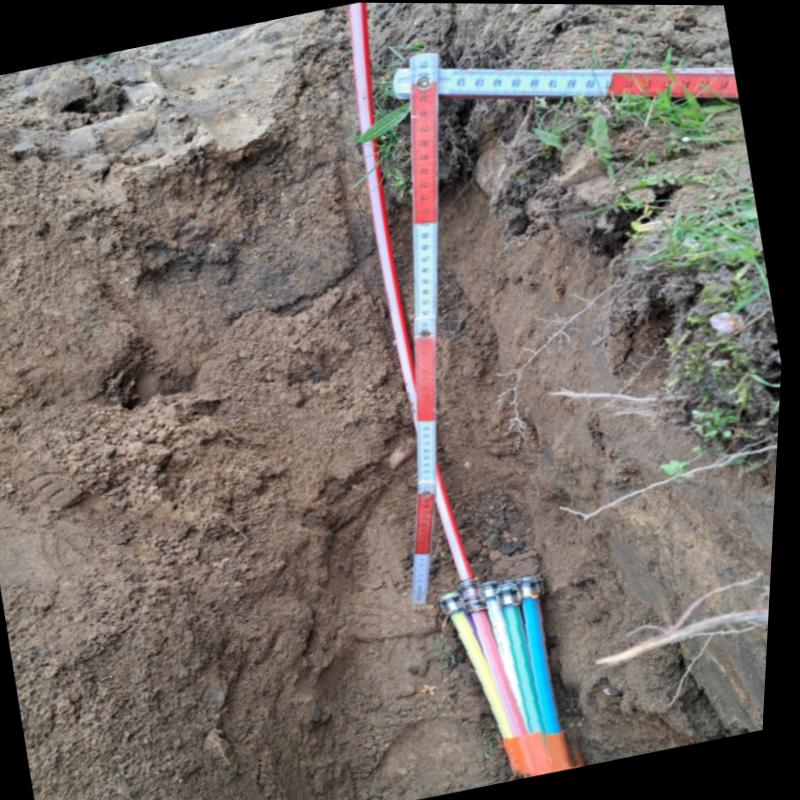Orang-Speednetrohrchen: (443, 576, 590, 778)
